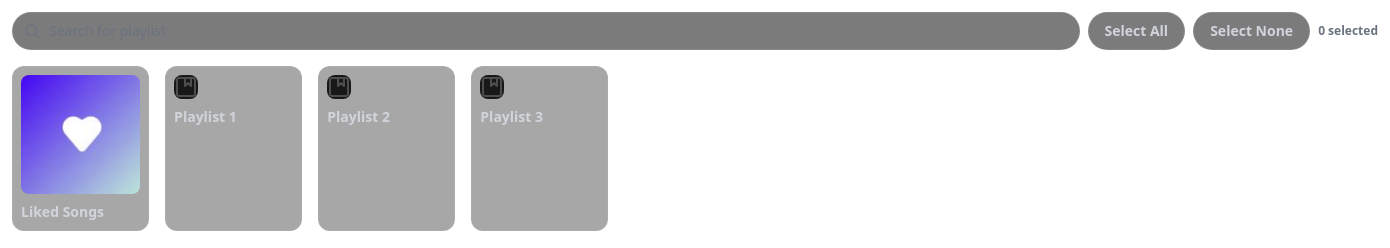
PlaylistInputCardList › displays "No playlists found" when search yields no results
This screenshot has width=1390, height=248.
expect the text "Playlist 1" is shown: met, box [174,107,237,126]
In the field with placeholder "Search for playlist": (546, 31) [12,12,1080,50], type "nonexistent"
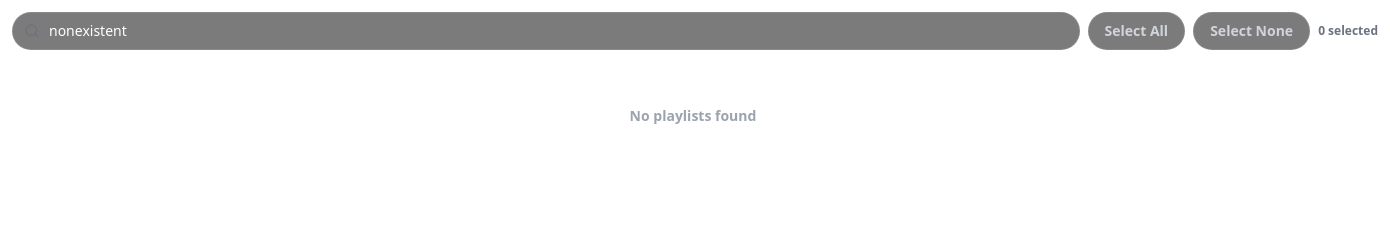
expect the text "No playlists found" is shown: met, box [630,106,756,126]
